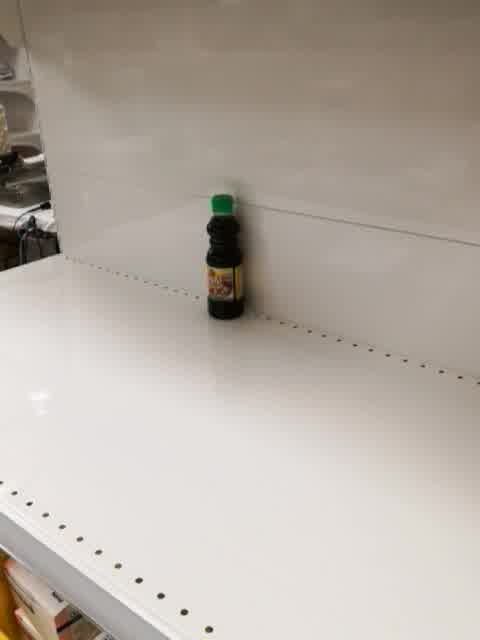cookingoil: (204, 191, 249, 321)
